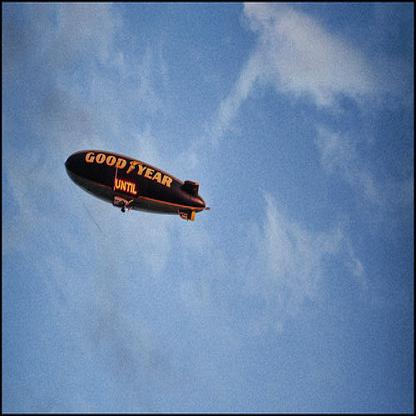Airship: (64, 147, 214, 229)
